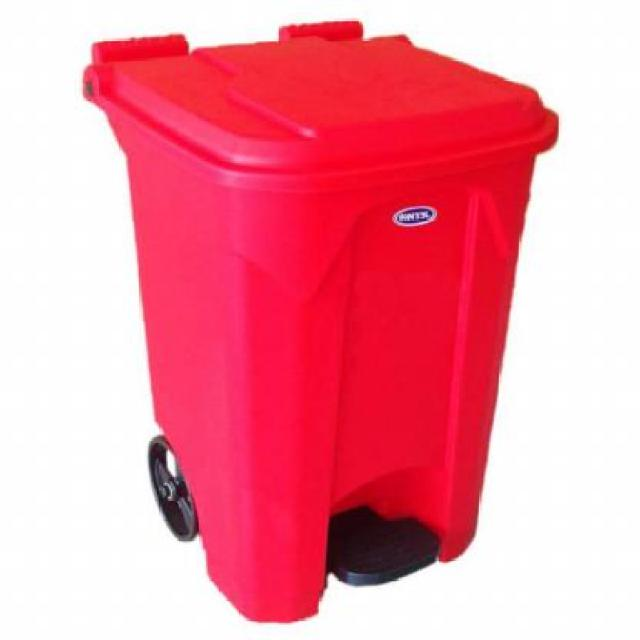garbage container: (64, 12, 574, 625)
